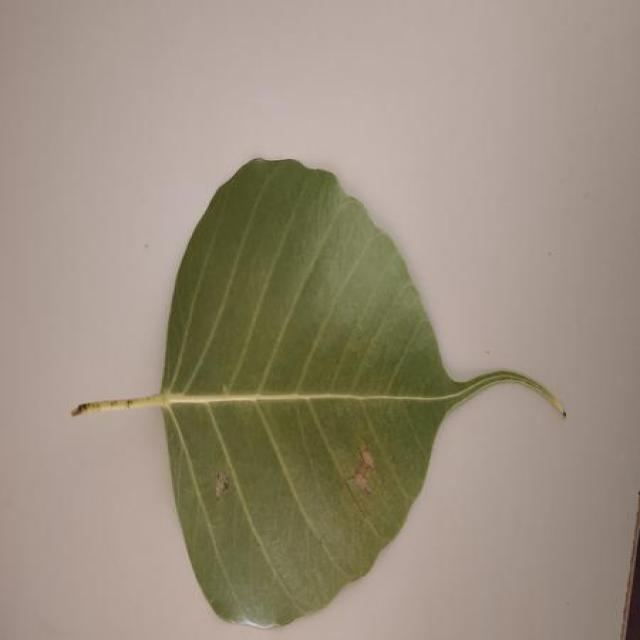arali: (73, 160, 563, 627)
